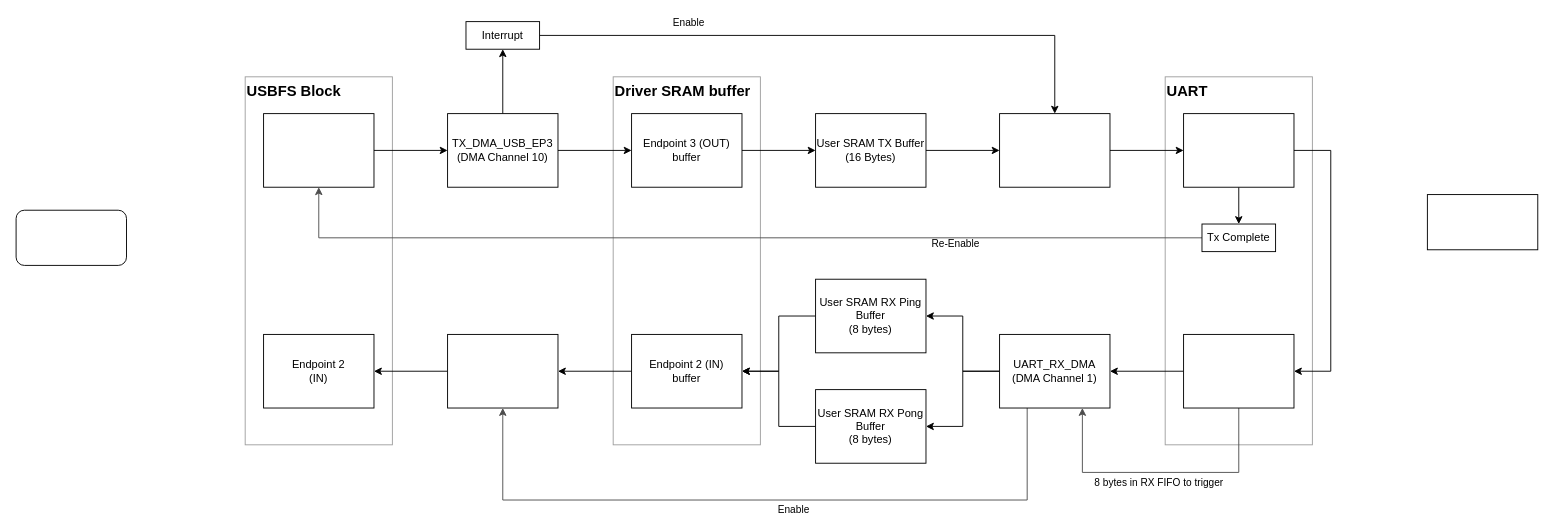
Some shapes in this 1554 by 531 pixel diagram are drawn without their labels. The shapes that lost their labels are listed below. From the top down, each one's centre as x and y in pixels, then its label:
the point at 318,150: Endpoint 3 (OUT)
the point at 1054,150: UART_TX_DMA (DMA Channel 0)
the point at 1238,150: UART TX
the point at 502,371: RX_DMA_USB_EP2 (DMA Channel 9)
the point at 1238,371: UART RX
